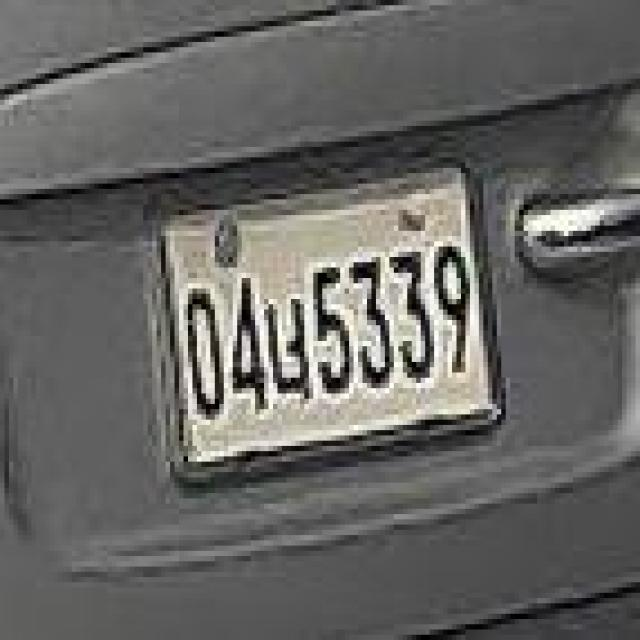illegal_plate: (155, 161, 500, 483)
